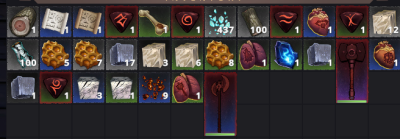ash heartwood: (7, 5, 39, 37)
ash log: (238, 6, 268, 36)
birch log: (8, 39, 38, 70)
chaos ember: (138, 71, 170, 102)
ethereal dust: (205, 6, 235, 36)
granite stone: (6, 71, 39, 102), (105, 39, 136, 69), (304, 38, 335, 68)
marble stone: (106, 71, 137, 103), (73, 71, 104, 102)
travertine stone: (138, 39, 170, 70), (171, 40, 202, 69), (369, 7, 399, 36)
